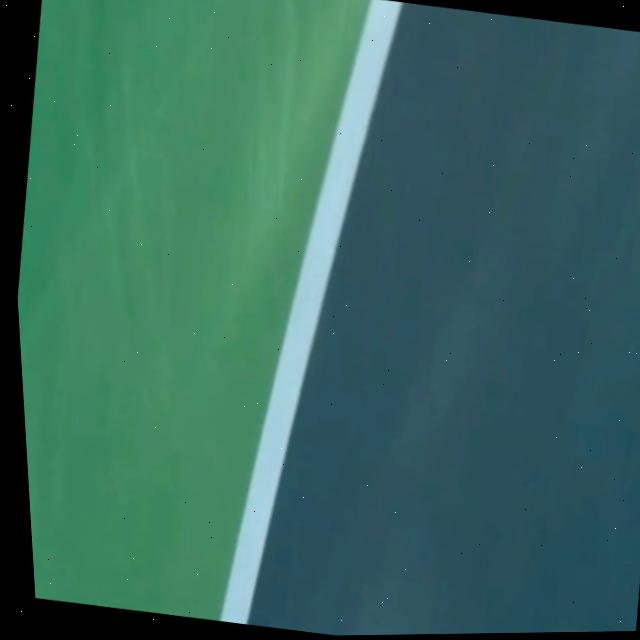right: (221, 0, 404, 625)
